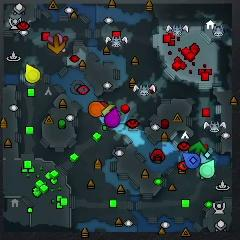p1: (182, 153, 201, 169)
p2: (200, 159, 215, 178)
p3: (104, 107, 121, 128)
p4: (25, 63, 42, 85)
p5: (89, 101, 107, 118)
x1: (48, 34, 63, 45)
x2: (102, 103, 115, 117)
x3: (200, 148, 214, 164)
x4: (189, 142, 208, 155)
x5: (48, 34, 66, 54)
